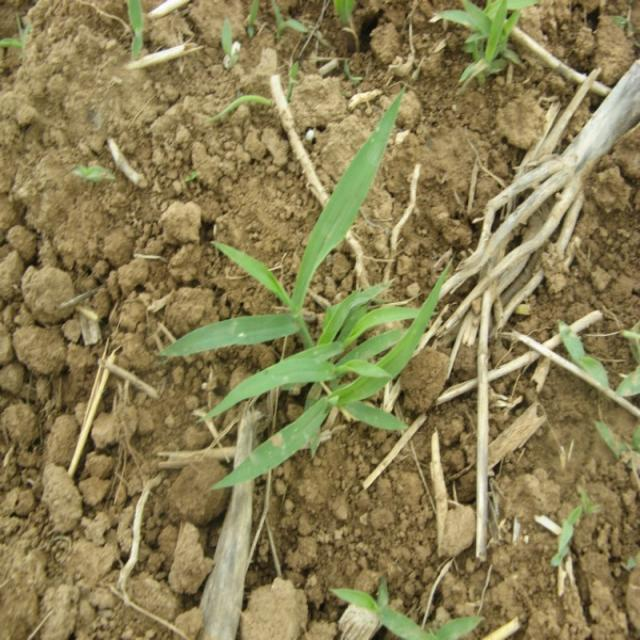bg: (162, 92, 447, 489)
